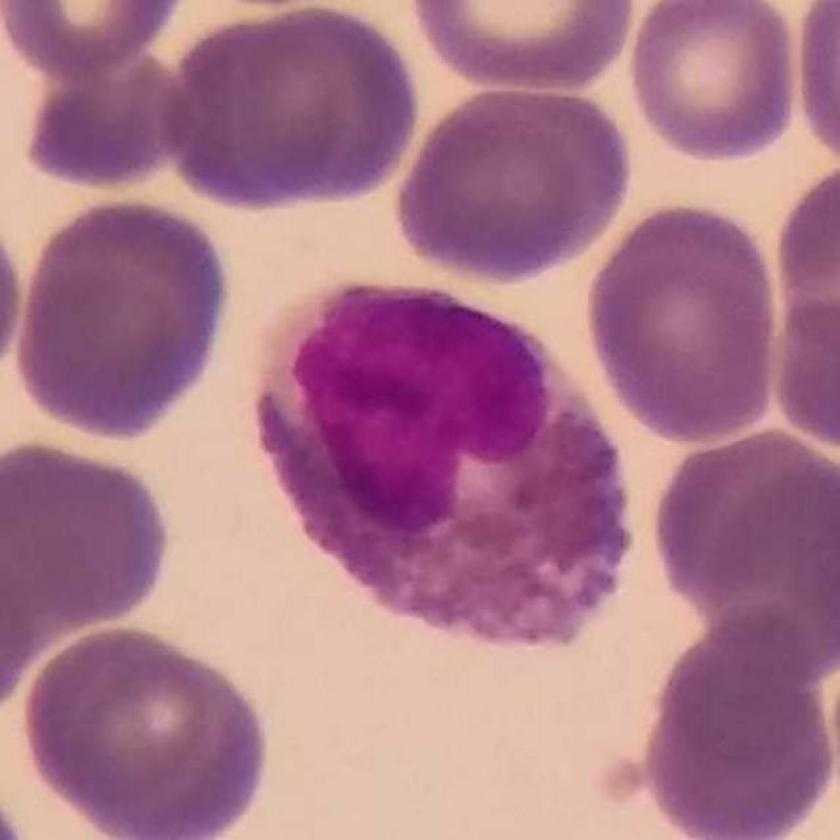eosinophil: (254, 281, 634, 651)
